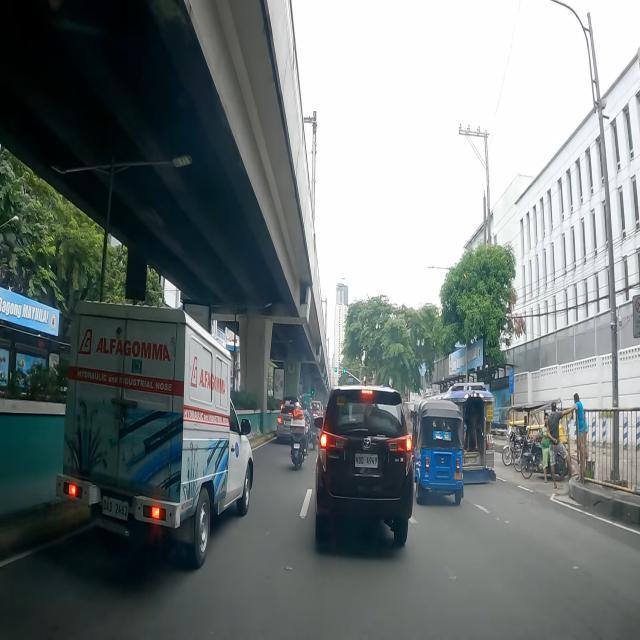car: (316, 384, 414, 546), (276, 404, 294, 442)
jeepney: (424, 382, 496, 487)
motorcycle: (290, 402, 309, 469), (308, 403, 320, 450)
tricycle: (411, 402, 464, 506), (521, 398, 572, 481), (502, 400, 543, 468)
truck: (56, 298, 254, 568)
